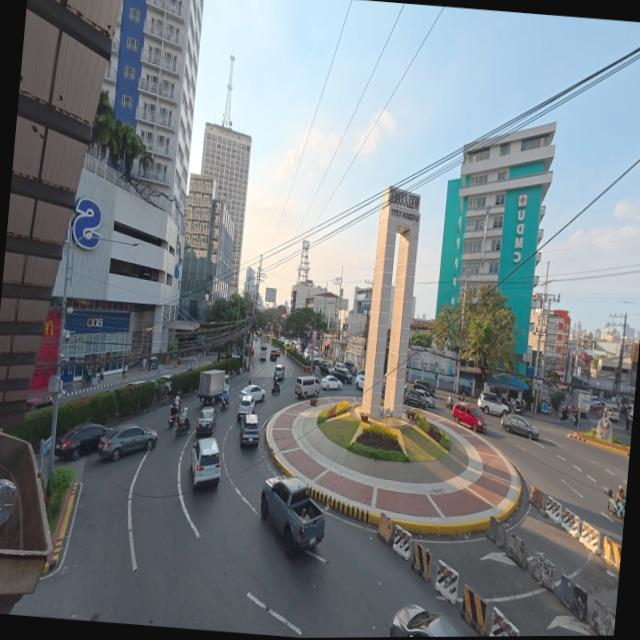car: (389, 604, 462, 636), (97, 424, 157, 460), (54, 423, 109, 459), (191, 437, 220, 487), (500, 413, 538, 440), (451, 403, 486, 432), (476, 392, 508, 416), (195, 407, 216, 437), (239, 414, 258, 445), (402, 389, 426, 409), (236, 395, 254, 420), (238, 385, 264, 401), (415, 389, 434, 408), (413, 380, 434, 397), (25, 398, 52, 411), (334, 365, 351, 383), (321, 376, 340, 390), (318, 361, 333, 375), (272, 363, 284, 379), (344, 361, 356, 375), (123, 380, 144, 388), (354, 374, 363, 389), (269, 349, 278, 361), (312, 353, 319, 364), (278, 335, 287, 343), (274, 347, 280, 356), (357, 368, 364, 375), (250, 348, 254, 355), (253, 335, 257, 341)
motorcycle: (603, 487, 625, 520), (174, 418, 190, 436), (168, 404, 177, 428), (558, 404, 570, 421), (509, 400, 522, 414), (219, 395, 229, 410), (271, 381, 279, 395), (510, 405, 522, 414), (444, 400, 453, 409), (459, 395, 466, 402)
trucks: (260, 477, 324, 556), (197, 370, 228, 405), (571, 390, 591, 411), (259, 343, 266, 361)
vans: (294, 376, 320, 398), (603, 406, 618, 421)
